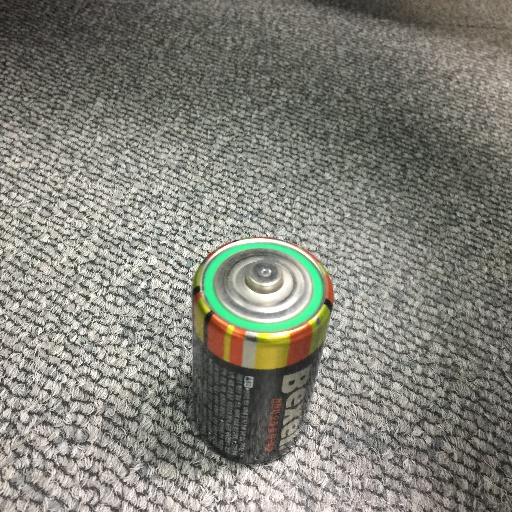Battery_0: (180, 226, 342, 465)
